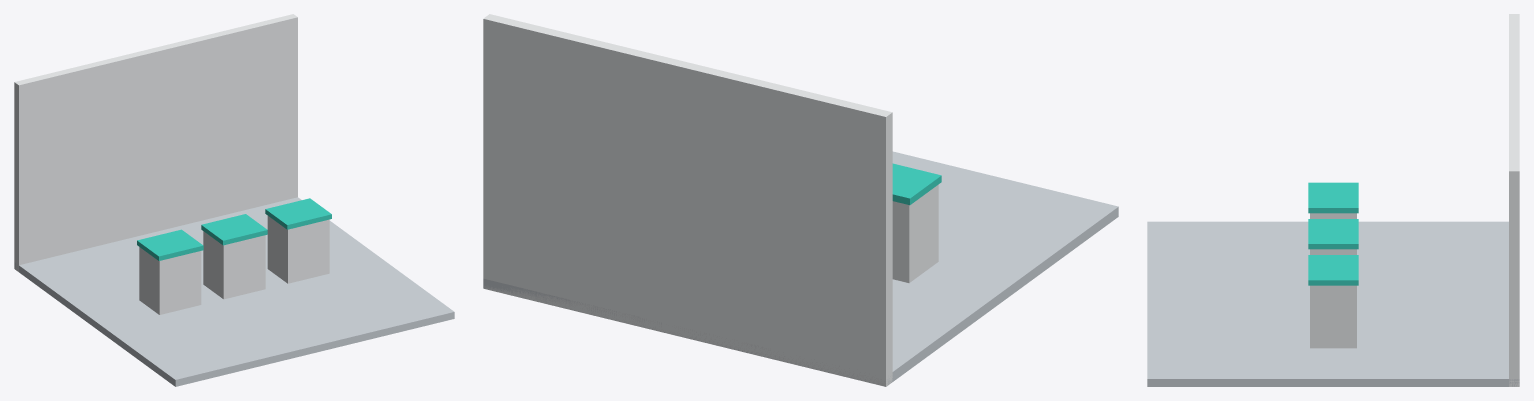
The picture shows the model from 3 angles, left to right: view 1: azimuth 30°, elevation 25°; view 2: azimuth 150°, elevation 25°; view 3: azimuth 270°, elevation 25°; orthographic projection. The views are drawn at different scales.
Parts seen in each view (by area): view 1: Exhibition Booth Concept; view 2: Exhibition Booth Concept; view 3: Exhibition Booth Concept.
Boxes of the visible parts, <box> form: Exhibition Booth Concept: <box>14,14,454,386</box>; Exhibition Booth Concept: <box>483,14,1118,386</box>; Exhibition Booth Concept: <box>1147,14,1519,386</box>.
Size of the model in its own units: 5 by 3.2 by 5.
